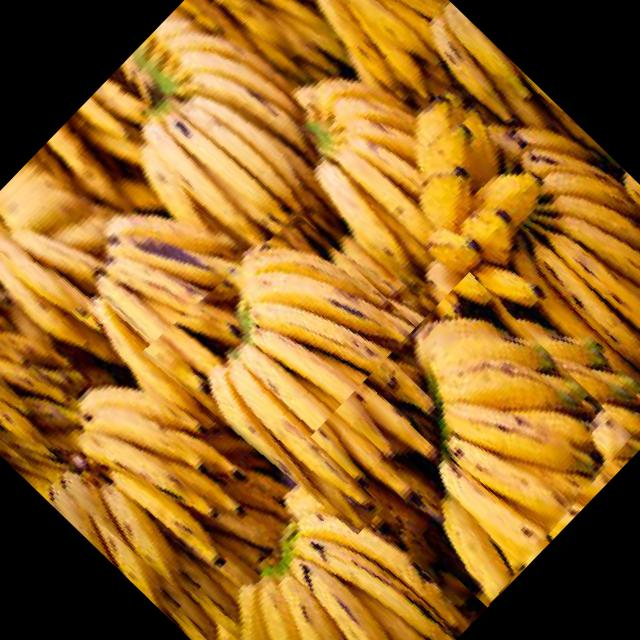Organic: (0, 0, 640, 640), (142, 202, 490, 548), (310, 271, 640, 607)
